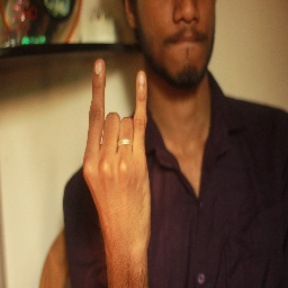V: (74, 55, 161, 248)
